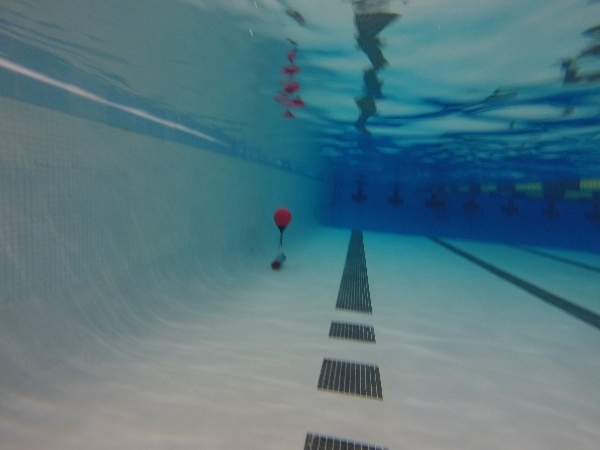buoy_red: (270, 206, 295, 235)
